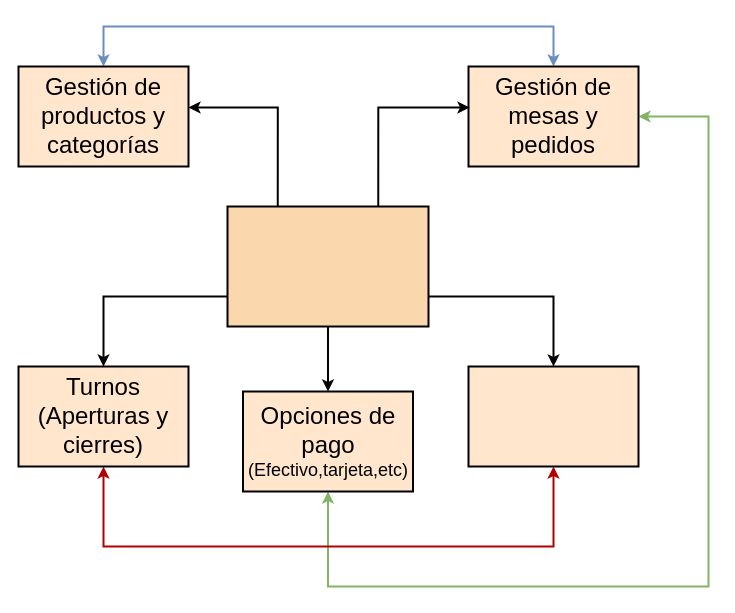
Image size: 735x613. Some labels were removed from this diagram. The centre of each missing label's shape, as x and y in pixels:
"Interfaz Principal (GUI) CafféFlux" goes at point 327,266.
"Reportes diarios y mensuales" goes at point 553,416.
